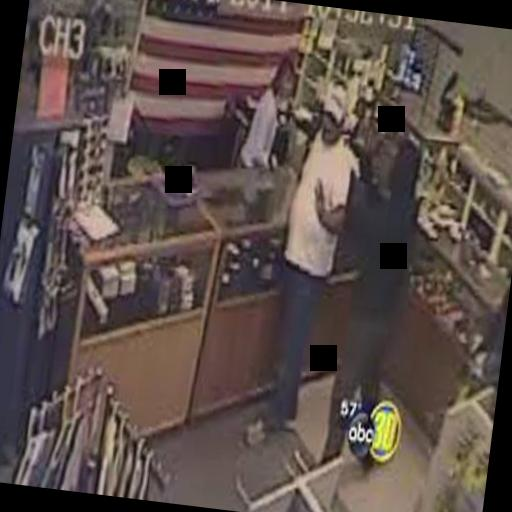Handgun: (340, 133, 382, 189)
